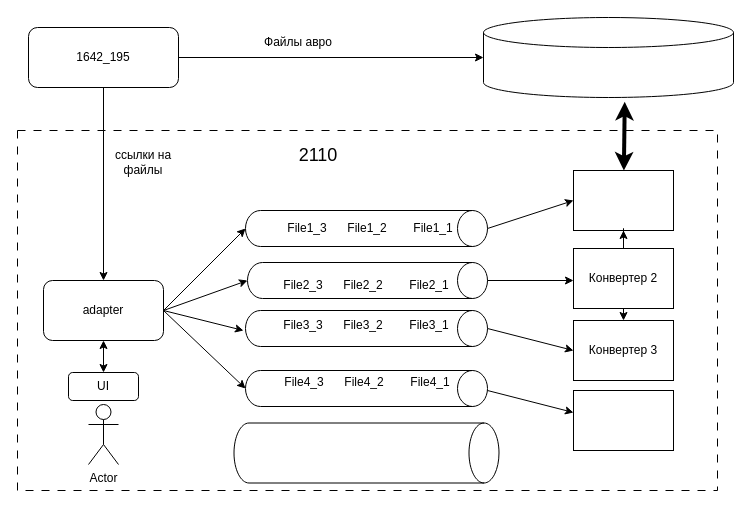
The diagram is 751 pixels wide and 508 high, and some of its shapes have lost their labels. The shapes that lost their labels are listed below. From the top down, each one's centre as x and y in pixels, then its label:
At pixel 608 57: "S3".
At pixel 623 200: "Конвертер 1".
At pixel 623 420: "Конвертер 4".
